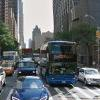Bus: (37, 38, 79, 88)
